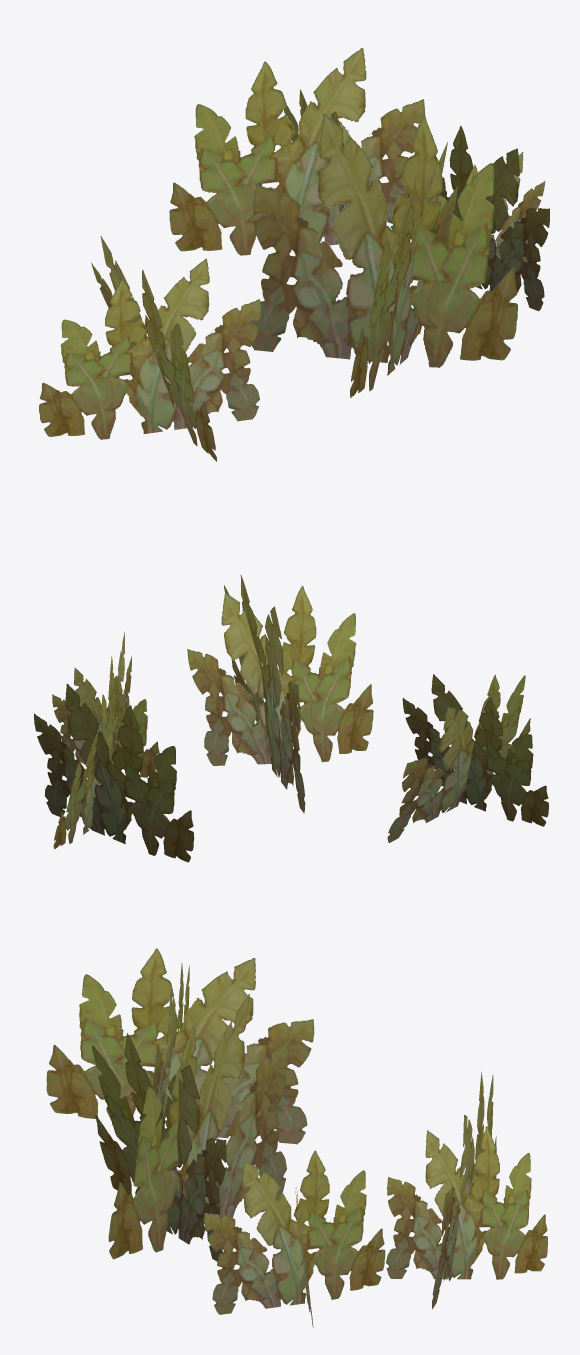
The model's file is Map_08_grass04.FBX.
3 renders of one model, top to bottom at view 1: azimuth 30°, elevation 25°; view 2: azimuth 150°, elevation 25°; view 3: azimuth 270°, elevation 25°, orthographic. The views are drawn at different scales.
Parts seen in each view (by area): view 1: Map_08_grass04; view 2: Map_08_grass04; view 3: Map_08_grass04.
Part boxes in pixels (x1,y1,x2,y2): Map_08_grass04: (39, 48, 549, 461); Map_08_grass04: (34, 575, 548, 862); Map_08_grass04: (46, 948, 547, 1327).
Bounding box in the file's own units: 204 × 166 × 85.32.
